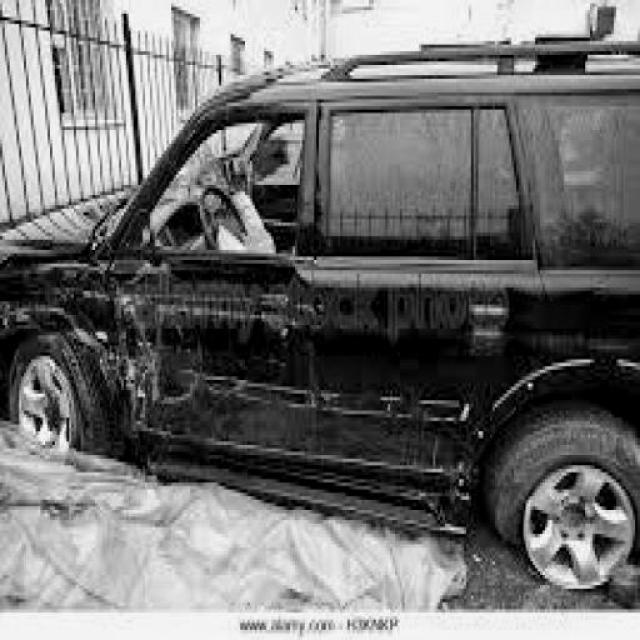car damage: (3, 248, 497, 541)
